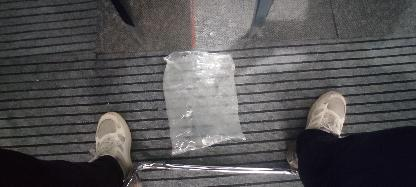Others: (163, 51, 245, 155)
